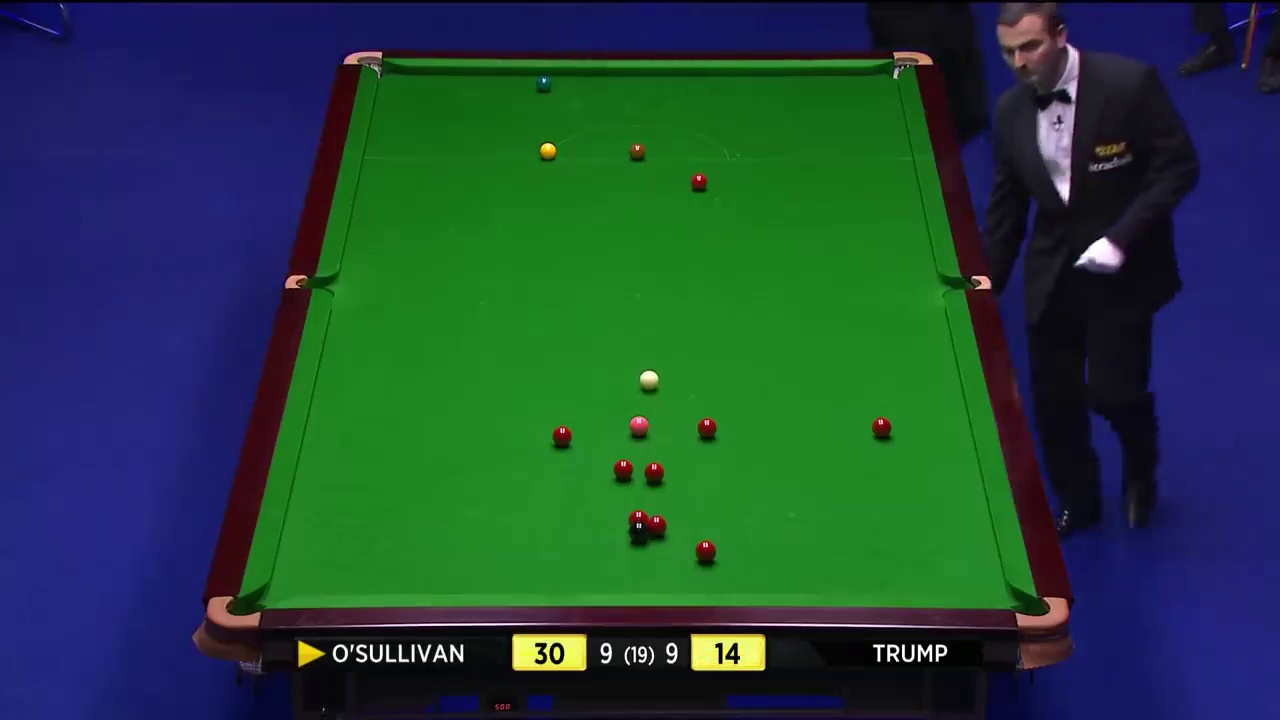ball: (638, 369, 663, 392), (626, 413, 649, 436), (628, 520, 651, 543), (871, 414, 892, 437), (613, 459, 635, 480), (697, 539, 717, 561), (628, 137, 644, 162), (551, 425, 571, 445), (696, 418, 716, 438), (644, 461, 663, 482), (534, 72, 553, 90), (538, 140, 556, 158), (691, 170, 708, 189)
